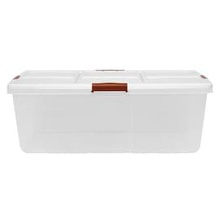plastic_box: (1, 62, 216, 159)
